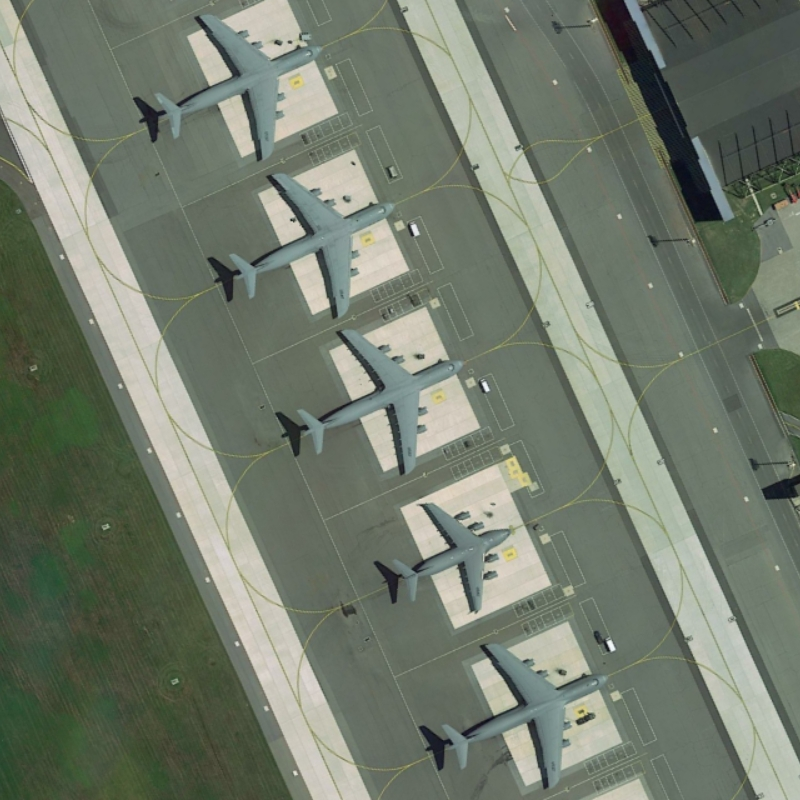A3: (384, 497, 517, 616)
A4: (137, 5, 332, 167), (283, 322, 471, 484), (217, 166, 404, 327), (434, 633, 613, 794)
